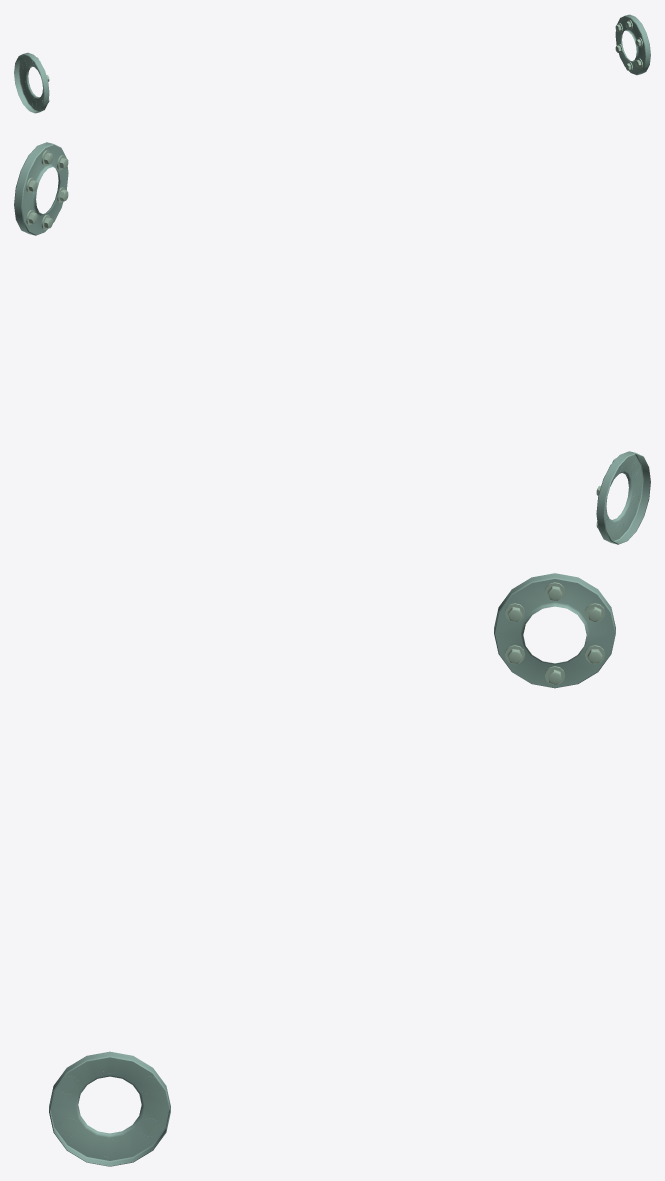
File: PipeComplexLarge_A3_14_End.fbx
3 renders of one model, top to bottom at view 1: azimuth 30°, elevation 25°; view 2: azimuth 150°, elevation 25°; view 3: azimuth 270°, elevation 25°, orthographic. The views are drawn at different scales.
Parts seen in each view (by area): view 1: PipeComplexLarge_A3_14_End.001; view 2: PipeComplexLarge_A3_14_End.001; view 3: PipeComplexLarge_A3_14_End.001.
Part boxes in pixels (x1,y1,x2,y2): PipeComplexLarge_A3_14_End.001: (14, 14, 650, 113); PipeComplexLarge_A3_14_End.001: (14, 142, 650, 544); PipeComplexLarge_A3_14_End.001: (49, 573, 615, 1166).
Bounding box in the file's own units: 3.6 × 0.3846 × 1.78.
